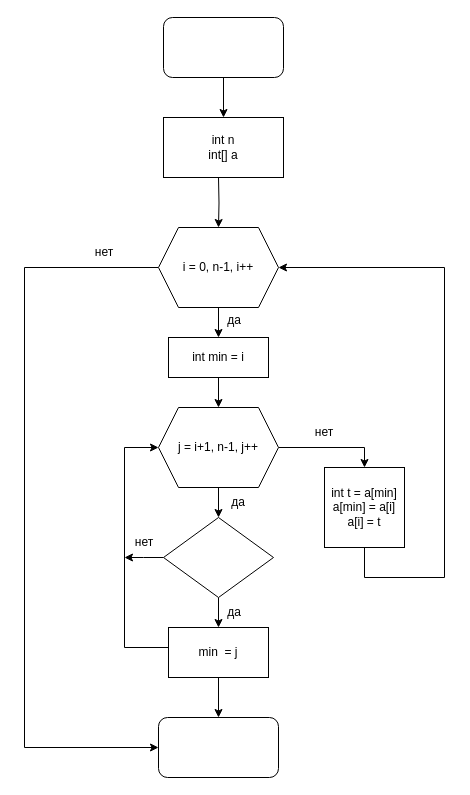
Image size: 470x795. Some labels were removed from this diagram. Here are the shapes that lost their labels. From the top down, the centre of each, then its label:
At [223,47]: "НАЧАЛО".
At [218,557]: "a[min] > a[j]".
At [218,747]: "КОНЕЦ".
